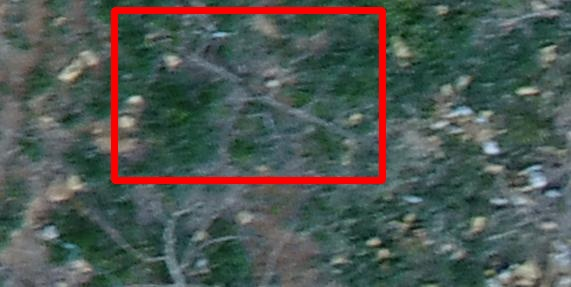apple: (114, 10, 382, 180)
